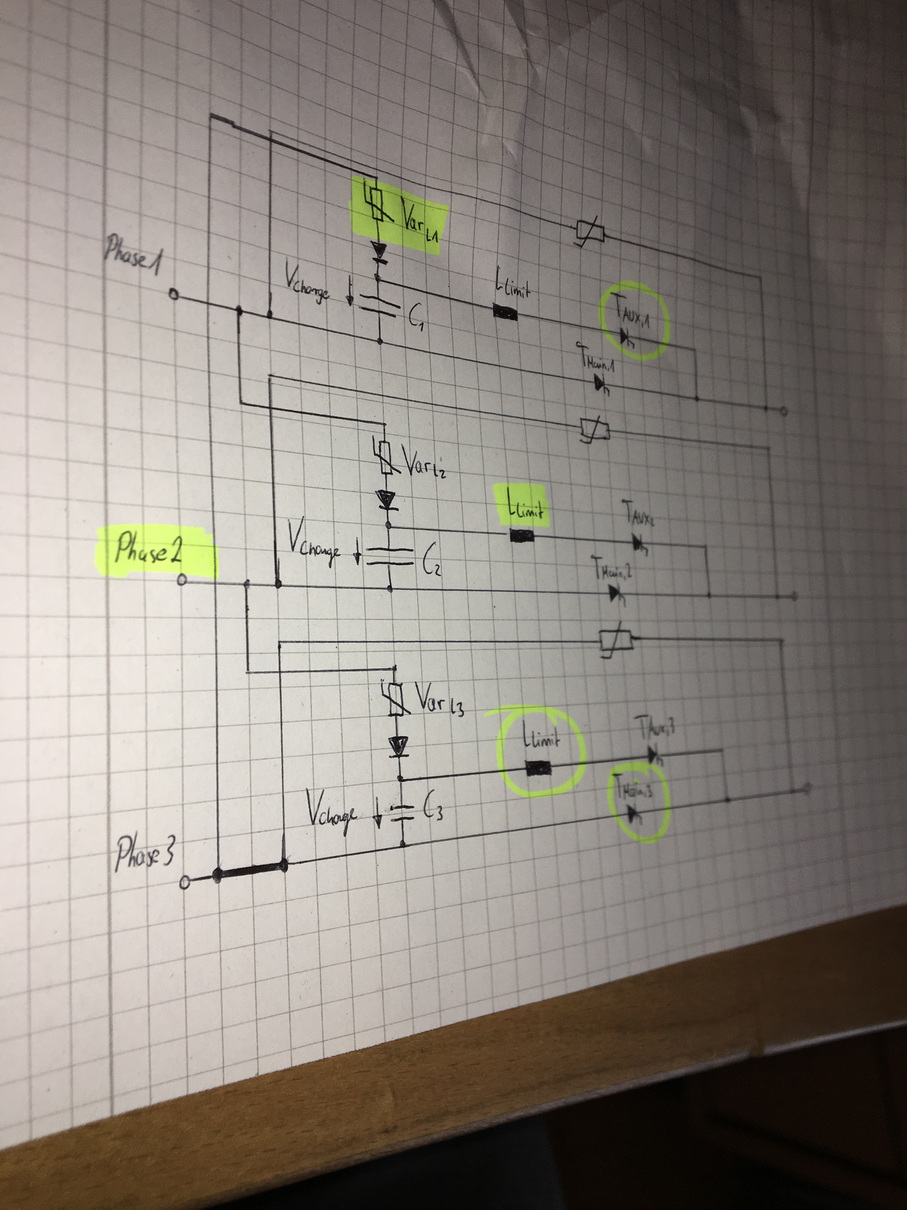capacitor.unpolarized: (357, 292, 402, 321), (364, 545, 417, 569), (388, 802, 418, 825)
crossover: (209, 576, 221, 590), (202, 296, 214, 310), (264, 402, 277, 413), (274, 667, 286, 676), (265, 137, 277, 143)
diode: (386, 734, 412, 760), (374, 488, 401, 513), (368, 239, 389, 266)
inductor: (490, 300, 520, 323), (523, 758, 554, 778), (505, 527, 537, 545)
junction: (210, 864, 226, 885), (278, 856, 292, 875), (233, 304, 246, 318), (241, 577, 253, 590), (398, 837, 409, 851), (264, 308, 275, 322), (272, 578, 284, 590), (760, 402, 772, 414), (722, 793, 733, 806), (385, 582, 396, 595), (383, 519, 394, 532), (236, 397, 247, 410), (372, 271, 383, 284), (775, 634, 786, 646), (716, 745, 727, 757), (389, 662, 400, 674), (705, 589, 715, 602), (395, 772, 405, 785), (275, 636, 286, 647), (692, 393, 703, 404), (772, 591, 782, 603), (207, 109, 217, 121), (243, 667, 253, 678), (265, 370, 275, 381), (375, 335, 385, 346), (700, 541, 711, 550), (756, 272, 765, 283), (380, 420, 390, 429), (690, 345, 699, 355), (787, 786, 796, 796), (267, 125, 276, 134), (764, 443, 772, 453), (372, 174, 380, 181)
terminal: (166, 286, 184, 303), (177, 873, 192, 891), (175, 571, 190, 587), (800, 780, 814, 797), (790, 589, 800, 604), (778, 405, 789, 418)
text: (286, 515, 343, 570), (101, 231, 166, 277), (113, 829, 177, 874), (304, 786, 359, 838), (112, 529, 185, 565), (284, 255, 331, 306), (413, 679, 466, 719), (399, 194, 440, 244), (399, 442, 447, 480), (609, 291, 651, 329), (504, 484, 546, 522), (493, 264, 532, 300), (575, 341, 616, 375), (521, 718, 561, 750), (632, 712, 676, 741), (611, 772, 654, 801), (589, 554, 633, 582), (620, 498, 656, 528), (421, 540, 443, 578), (422, 787, 445, 822), (407, 301, 426, 332)
thyristor: (606, 583, 627, 603), (593, 372, 612, 394), (630, 532, 649, 554), (646, 742, 664, 764), (618, 326, 636, 347), (626, 802, 643, 824)
varistor: (362, 179, 396, 224), (598, 620, 635, 660), (371, 434, 403, 476), (380, 679, 413, 718), (572, 214, 606, 251), (579, 414, 612, 445)
